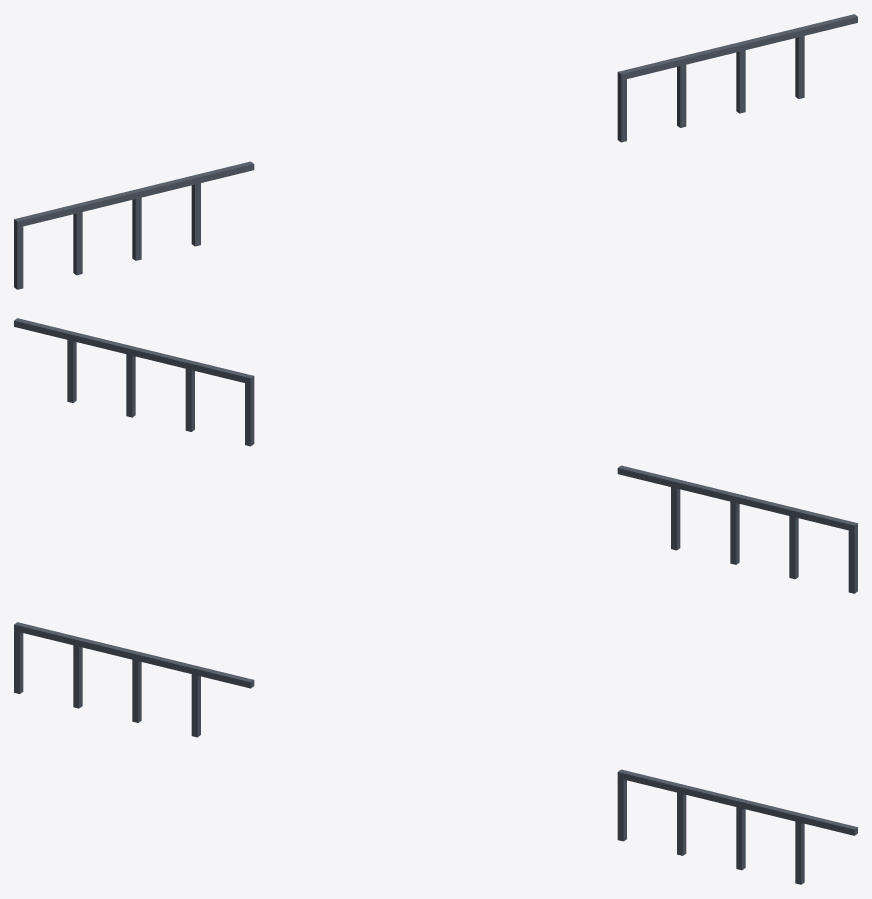
File: antenna_e3_l3.glb
3 views of the same model, one above another, from view 1: azimuth 30°, elevation 25°; view 2: azimuth 150°, elevation 25°; view 3: azimuth 330°, elevation 25° (orthographic).
Parts seen in each view (by area): view 1: Base; view 2: Base; view 3: Base.
Part boxes in pixels (<box>): Base: <box>14,14,857,289</box>; Base: <box>14,318,857,593</box>; Base: <box>14,622,857,884</box>.
Bounding box in the file's own units: 14.2 × 1.1 × 0.1.
